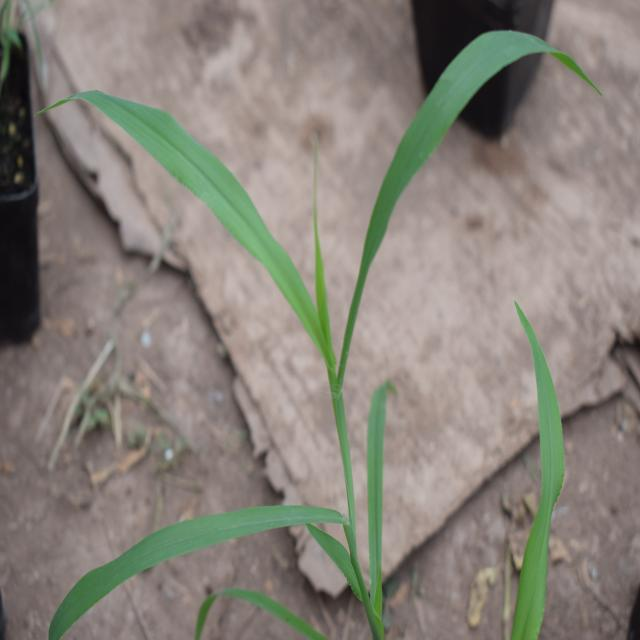crabgrass: (51, 8, 439, 594)
